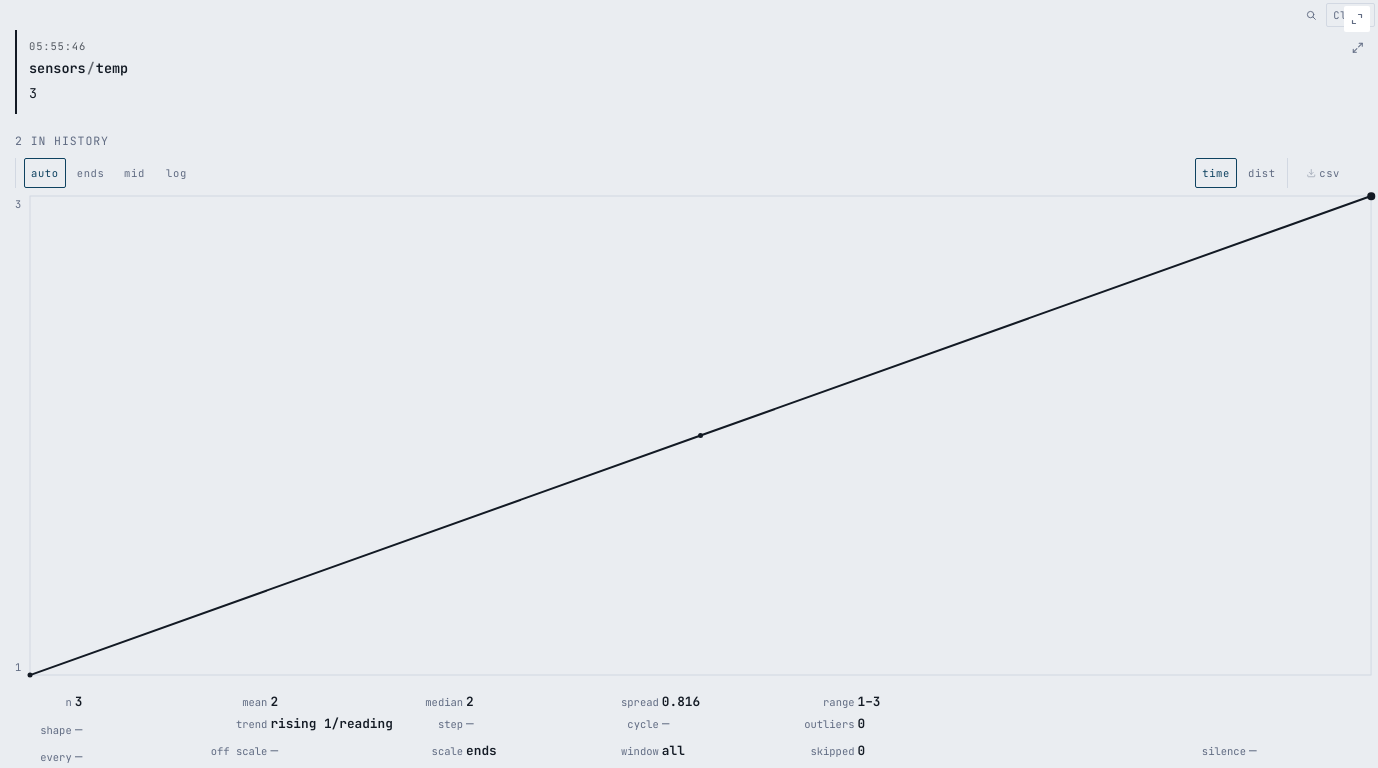
Test case: opening the history › offers the way back once it has drawn them all
Click the button "2 in history" at (62, 141), box [15, 127, 109, 155]
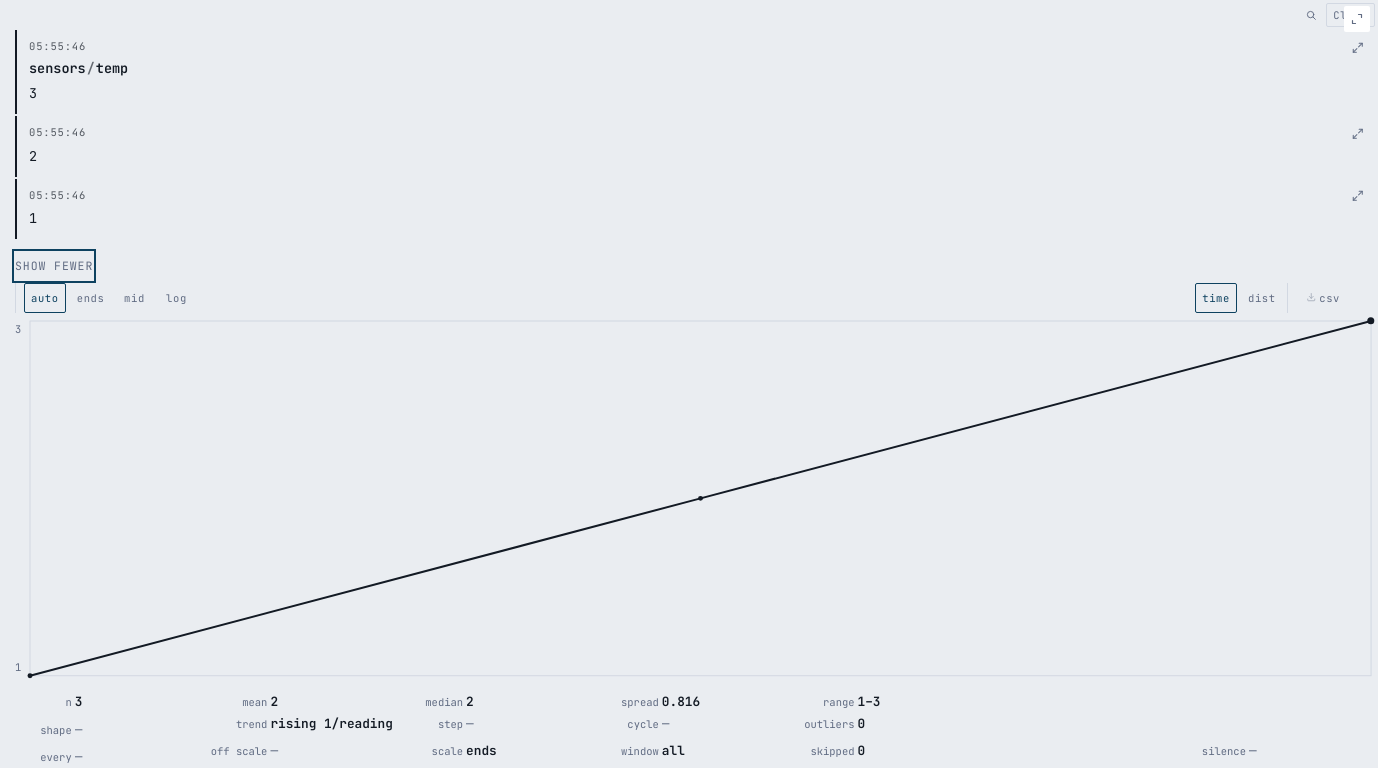
Check: the number of elements with test id "entry" is 3, box [15, 30, 1375, 114]; [15, 116, 1375, 177]; [15, 179, 1375, 239]
Click the button "Show fewer" at (54, 266), box [15, 252, 93, 280]
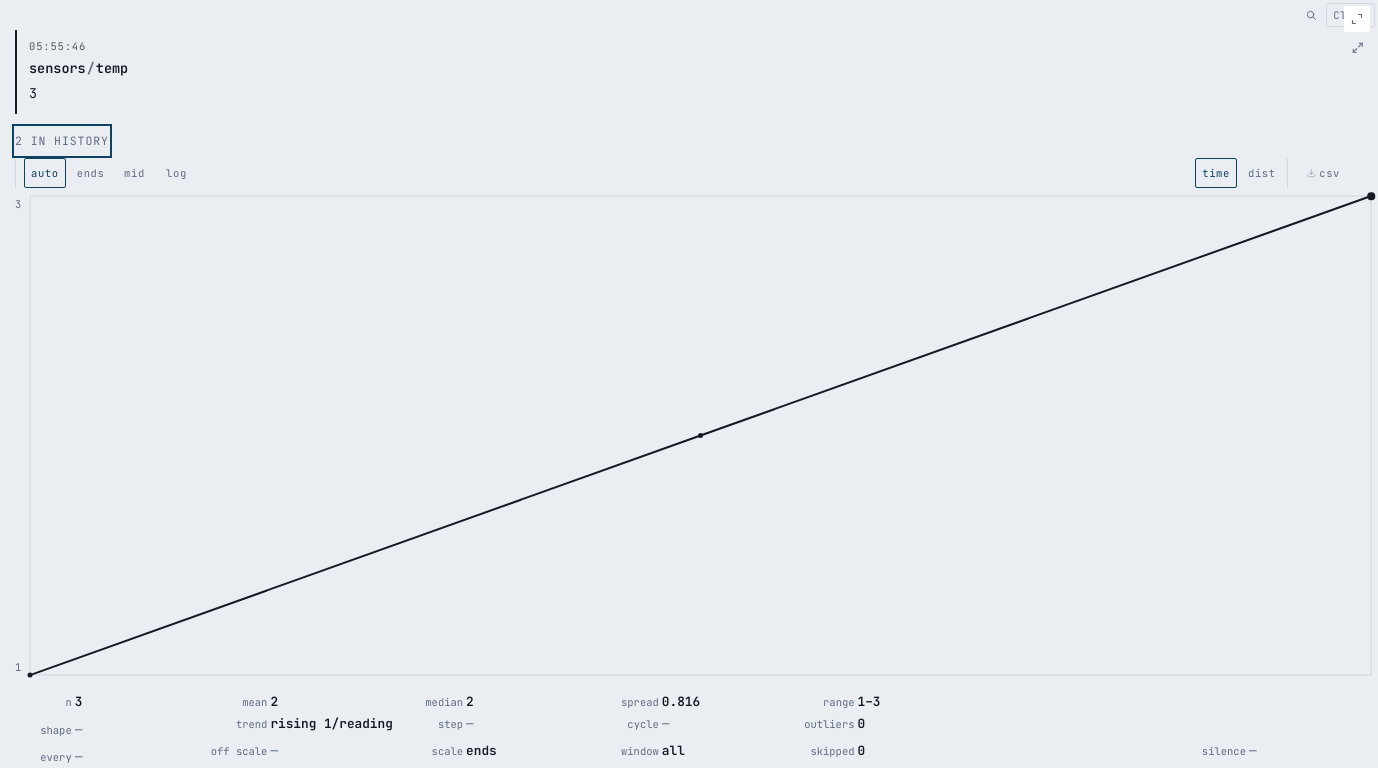
Check: the number of elements with test id "entry" is 1, box [15, 30, 1375, 114]
